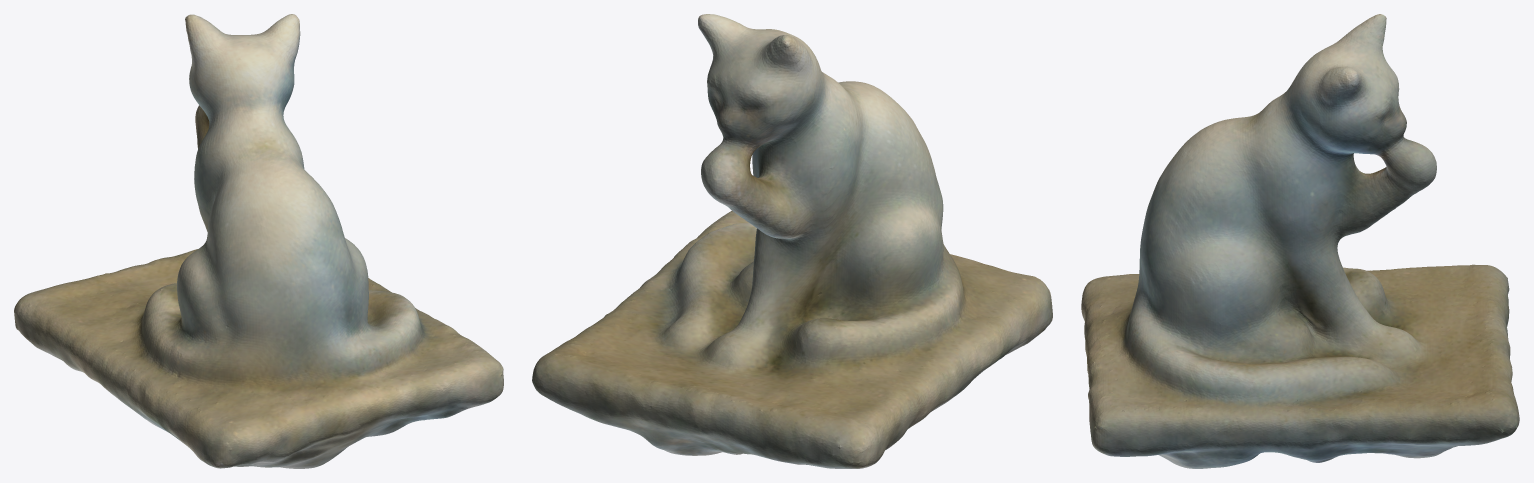
The model's file is cat.glb.
3 renders of one model, left to right at view 1: azimuth 30°, elevation 25°; view 2: azimuth 150°, elevation 25°; view 3: azimuth 270°, elevation 25°, orthographic. The views are drawn at different scales.
Parts seen in each view (by area): view 1: world; view 2: world; view 3: world.
Boxes of the visible parts, x1=… form: world: x1=14, y1=14, x2=503, y2=468; world: x1=532, y1=14, x2=1052, y2=468; world: x1=1081, y1=14, x2=1519, y2=468.
Bounding box in the file's own units: 0.8457 × 1.04 × 0.9835.
